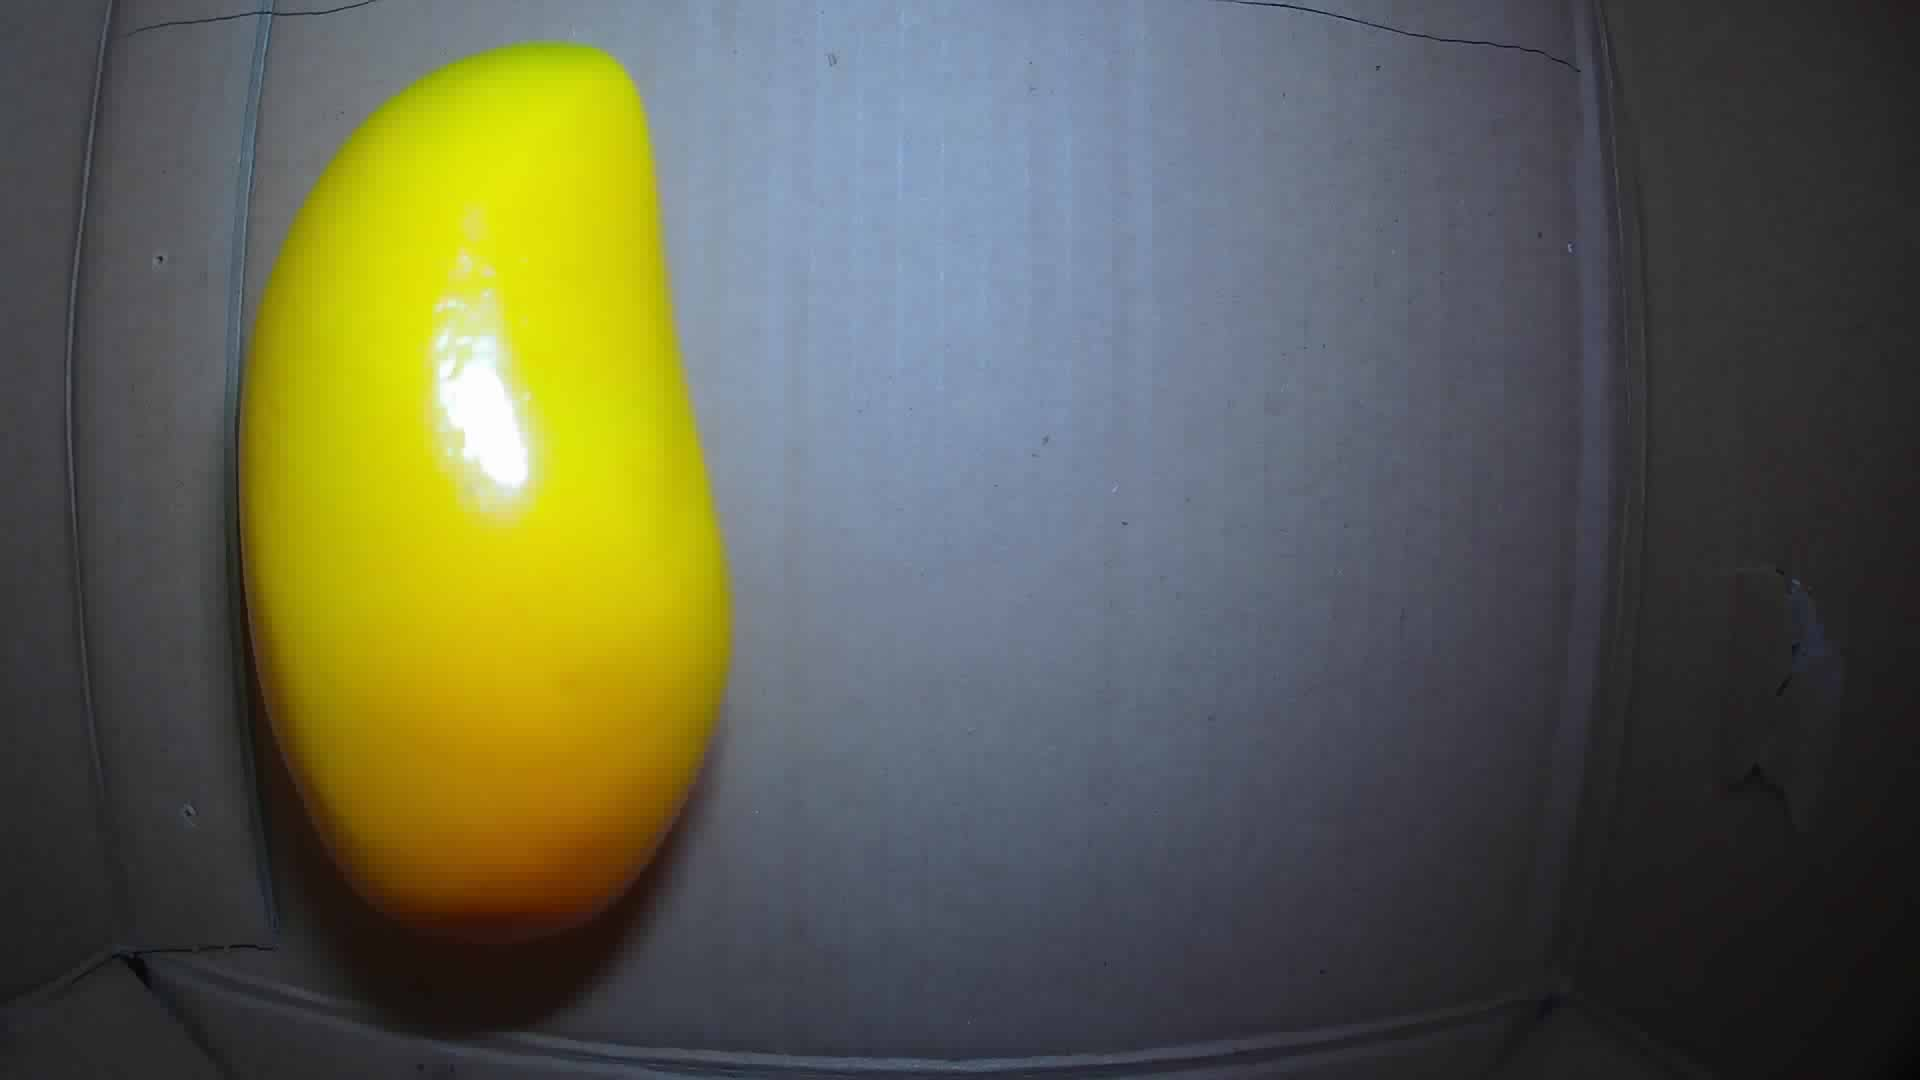mango: (240, 36, 735, 948)
